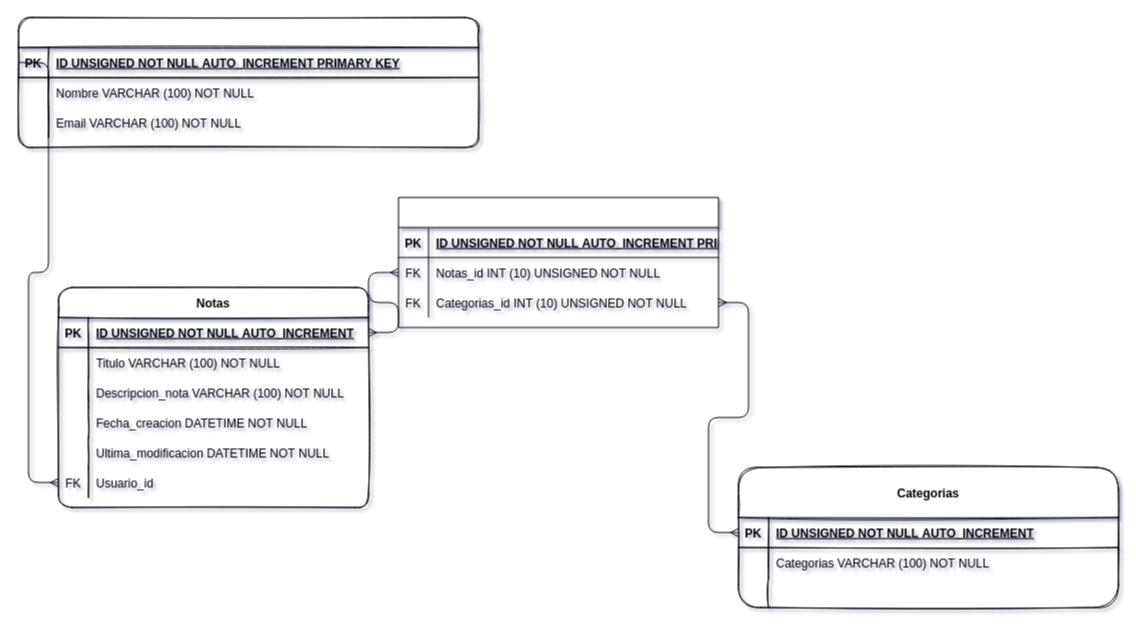
The diagram is 1136 pixels wide and 625 high, and some of its shapes have lost their labels. Here are the shapes that lost their labels. From the top down, the box of each, then its label:
(18, 16, 478, 148): Usuario
(398, 196, 718, 328): Notas_Categorias
